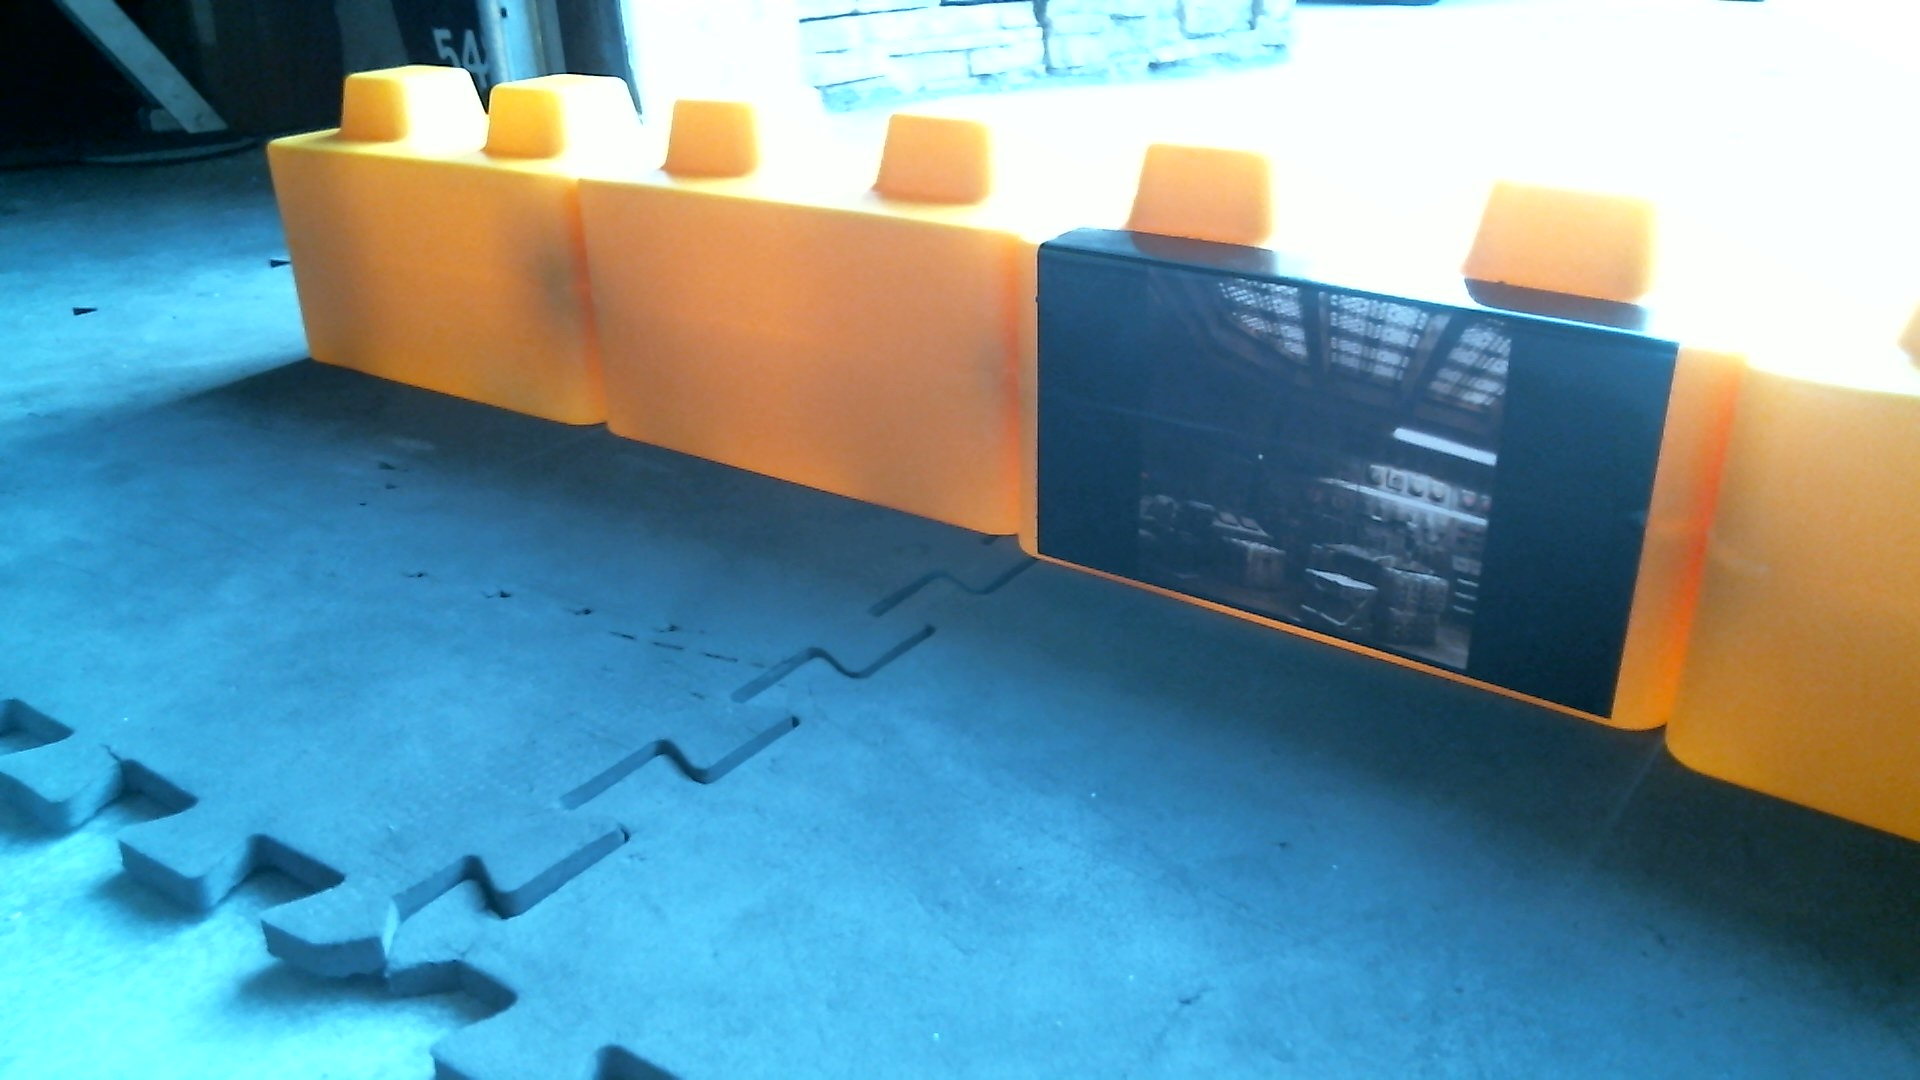right: (280, 57, 1745, 756)
